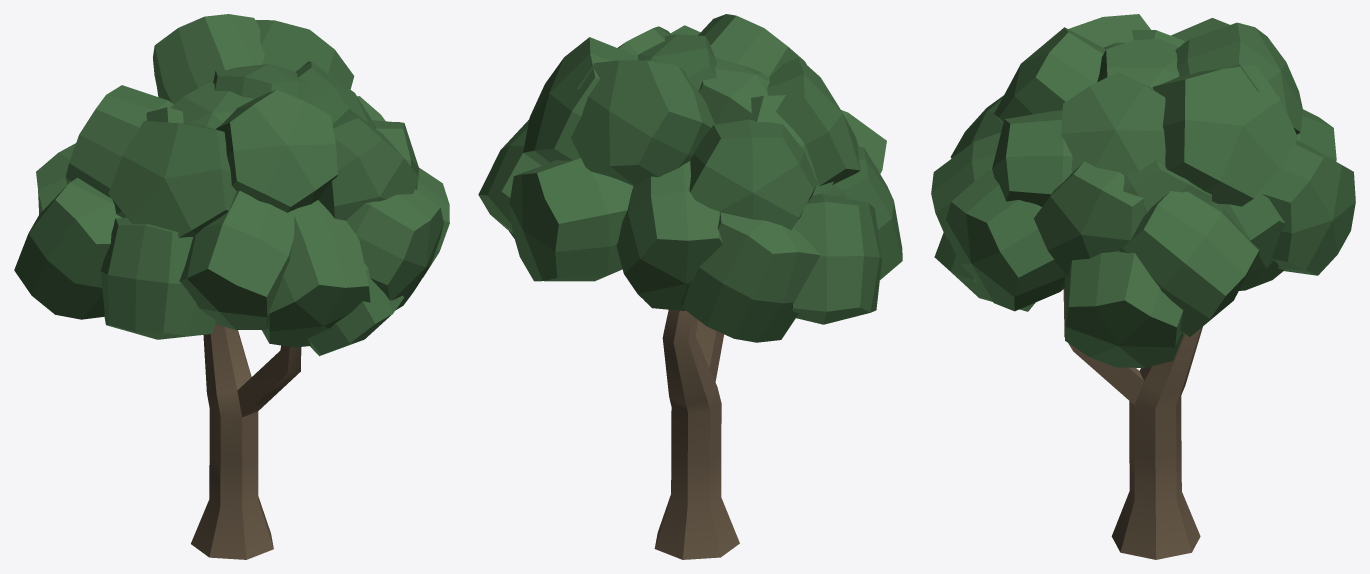
The model's file is model_tree.fbx.
3 renders of one model, left to right at view 1: azimuth 30°, elevation 25°; view 2: azimuth 150°, elevation 25°; view 3: azimuth 270°, elevation 25°, orthographic. The views are drawn at different scales.
Parts seen in each view (by area): view 1: pCylinder2; view 2: pCylinder2; view 3: pCylinder2.
Boxes of the visible parts, left/top/right/bottom form: pCylinder2: left=14, top=14, right=449, bottom=559; pCylinder2: left=478, top=14, right=902, bottom=559; pCylinder2: left=931, top=14, right=1355, bottom=559.
Size of the model in its own units: 19.71 by 24.29 by 17.88.
